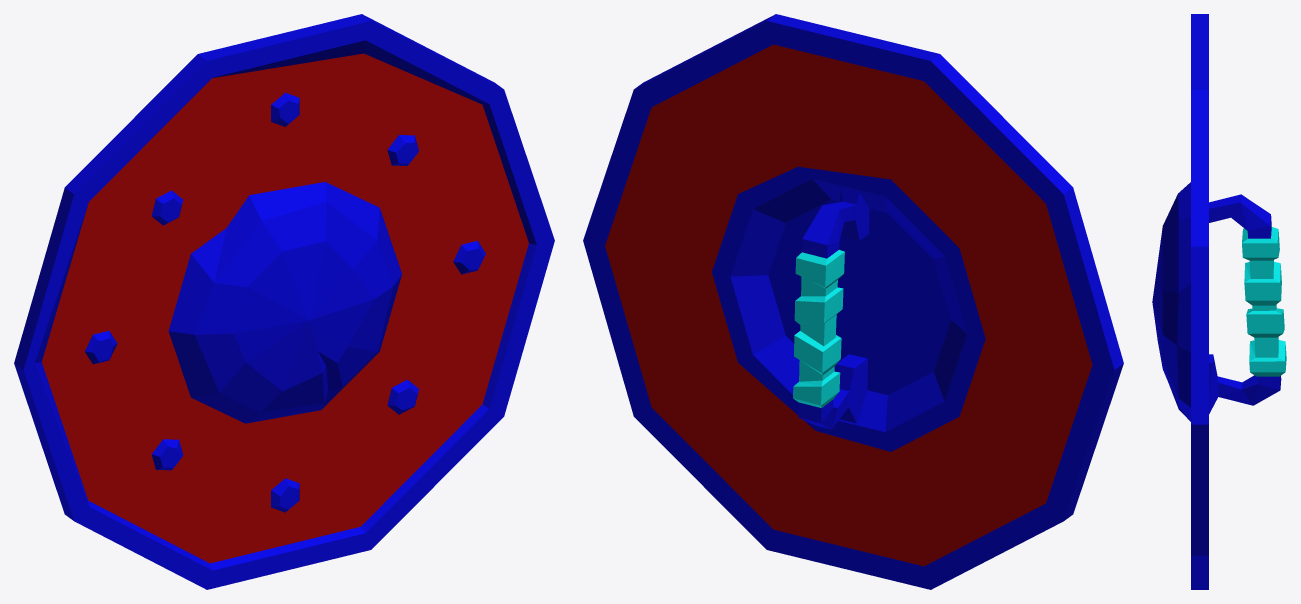
File: Sheild_Common_MetalBuckler.fbx
3 renders of one model, left to right at view 1: azimuth 30°, elevation 25°; view 2: azimuth 150°, elevation 25°; view 3: azimuth 270°, elevation 25°, orthographic. The views are drawn at different scales.
Visible parts, largest first — view 1: SM_Wep_Shield_Buckler_01; view 2: SM_Wep_Shield_Buckler_01; view 3: SM_Wep_Shield_Buckler_01.
Boxes of the visible parts, x1,y1,x2,y2 form: SM_Wep_Shield_Buckler_01: [14, 14, 554, 589]; SM_Wep_Shield_Buckler_01: [583, 14, 1123, 589]; SM_Wep_Shield_Buckler_01: [1152, 14, 1286, 589].
Bounding box in the file's own units: 61.29 × 58.29 × 14.18.
